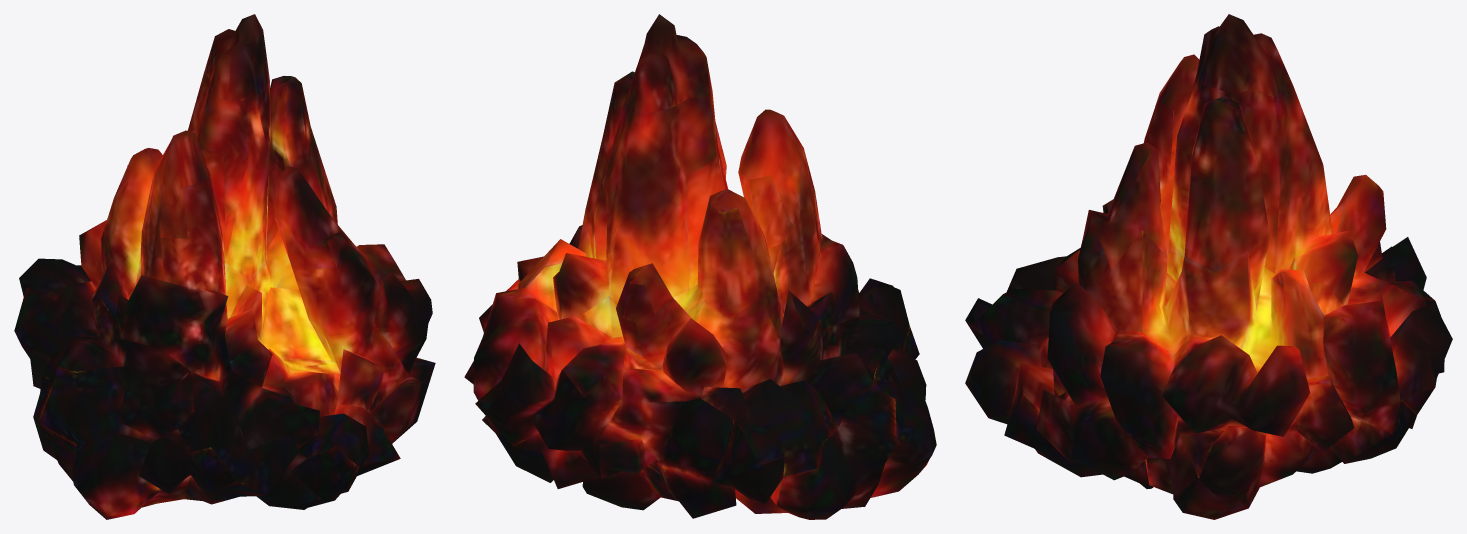
File: crystal-creative_ai_01.glb
3 renders of one model, left to right at view 1: azimuth 30°, elevation 25°; view 2: azimuth 150°, elevation 25°; view 3: azimuth 270°, elevation 25°, orthographic. The views are drawn at different scales.
Visible parts, largest first — view 1: mesh_node.002; view 2: mesh_node.002; view 3: mesh_node.002.
Part boxes in pixels (x1,y1,x2,y2): mesh_node.002: (14,14,435,519); mesh_node.002: (464,14,936,519); mesh_node.002: (965,14,1452,519).
Size of the model in its own units: 0.3047 by 0.3535 by 0.3291.
Materials: 1 (1 with a texture image).
